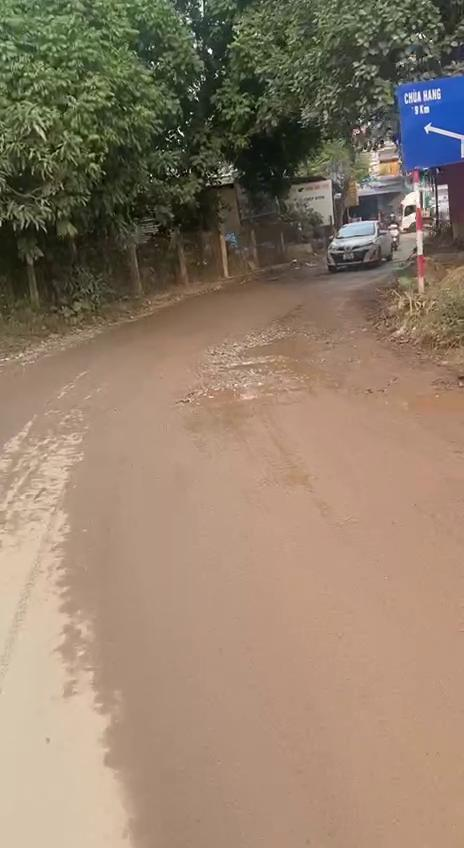pothole: (215, 332, 328, 377), (182, 374, 312, 411)
